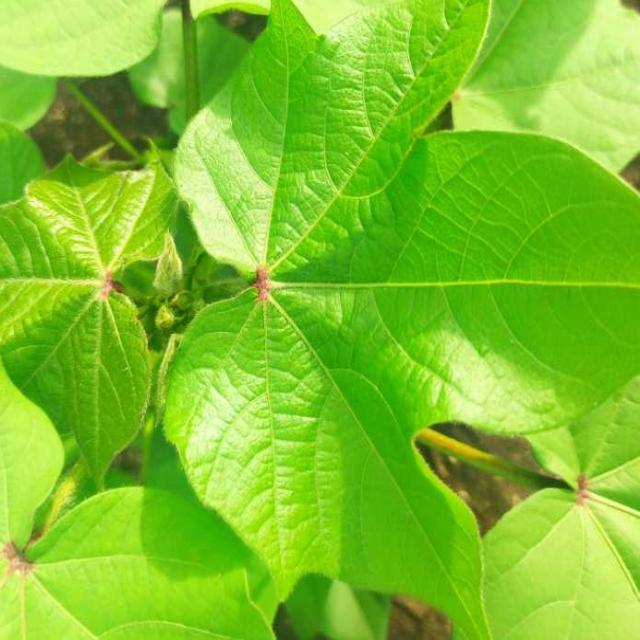Healthy Leaf: (21, 8, 640, 640)
